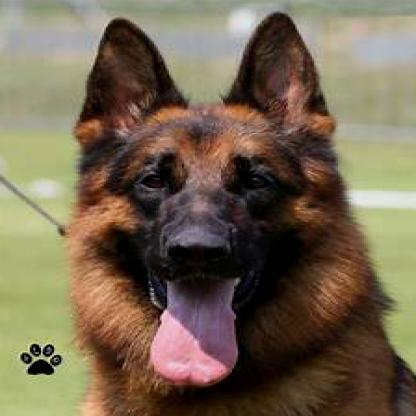dog: (67, 10, 414, 414)
